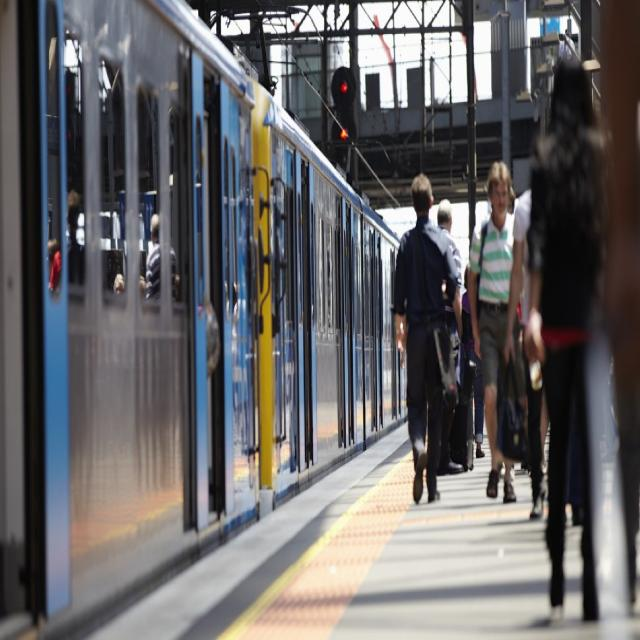body: (524, 55, 608, 621), (585, 0, 639, 629), (391, 168, 474, 505), (110, 205, 182, 504), (465, 155, 523, 506), (46, 189, 94, 523), (504, 166, 546, 523), (223, 222, 251, 484), (460, 260, 487, 461), (436, 198, 462, 322), (199, 287, 223, 382), (536, 388, 552, 475), (353, 340, 369, 405), (497, 458, 529, 481), (307, 300, 332, 329), (502, 175, 519, 217)
